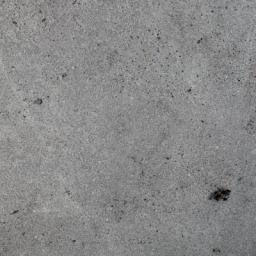FOD: (206, 186, 237, 206)
